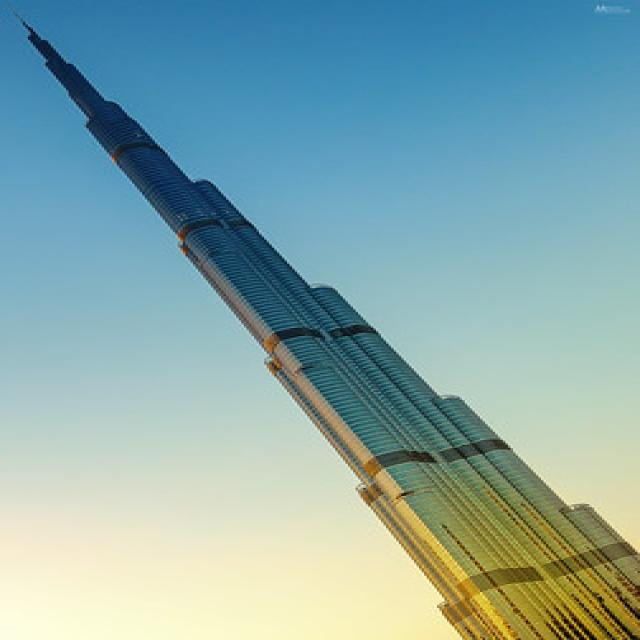building: (18, 27, 640, 638)
